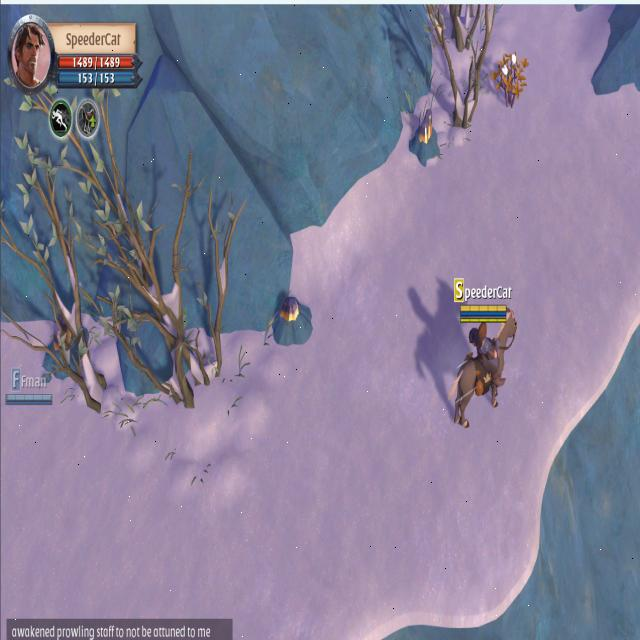copper: (271, 292, 314, 350), (408, 106, 442, 168)
cotton: (489, 45, 531, 112)
